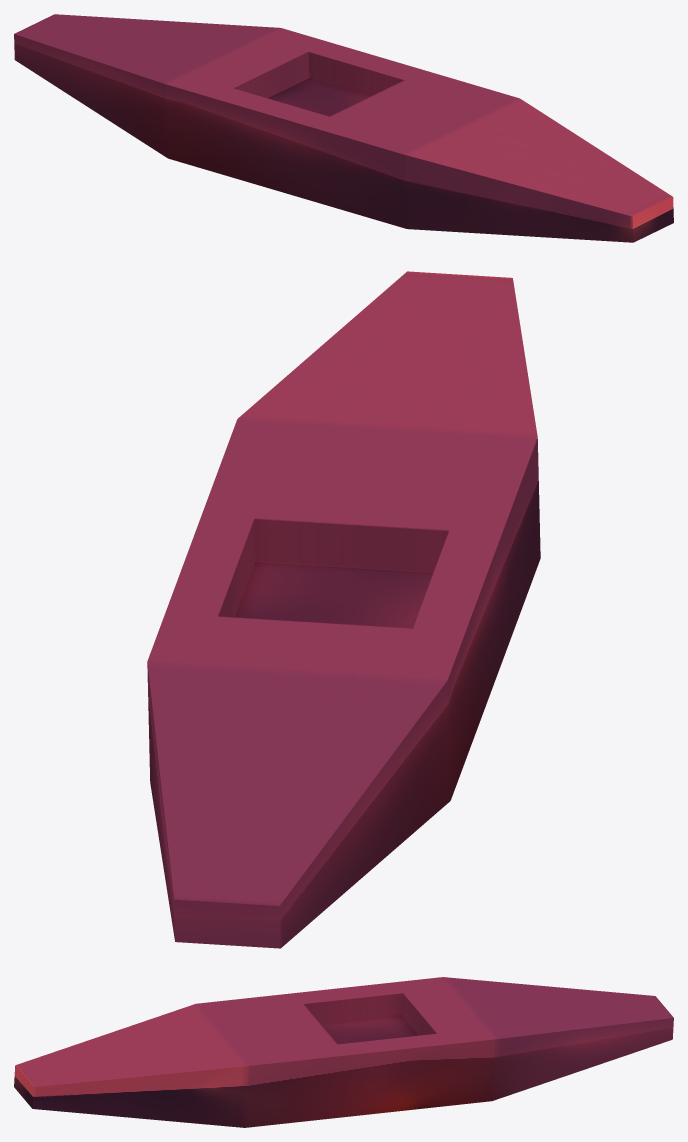
Rendered from kayak.glb.
The picture shows the model from 3 angles, top to bottom: view 1: azimuth 30°, elevation 25°; view 2: azimuth 150°, elevation 25°; view 3: azimuth 270°, elevation 25°; orthographic projection. The views are drawn at different scales.
Parts seen in each view (by area): view 1: KAYAK; view 2: KAYAK; view 3: KAYAK.
Part boxes in pixels (x1=…): KAYAK: x1=14, y1=14, x2=673, y2=242; KAYAK: x1=147, y1=271, x2=540, y2=948; KAYAK: x1=14, y1=977, x2=673, y2=1127.
Size of the model in its own units: 0.1963 by 0.057 by 0.4539.
Materials: 1 (1 with a texture image).
